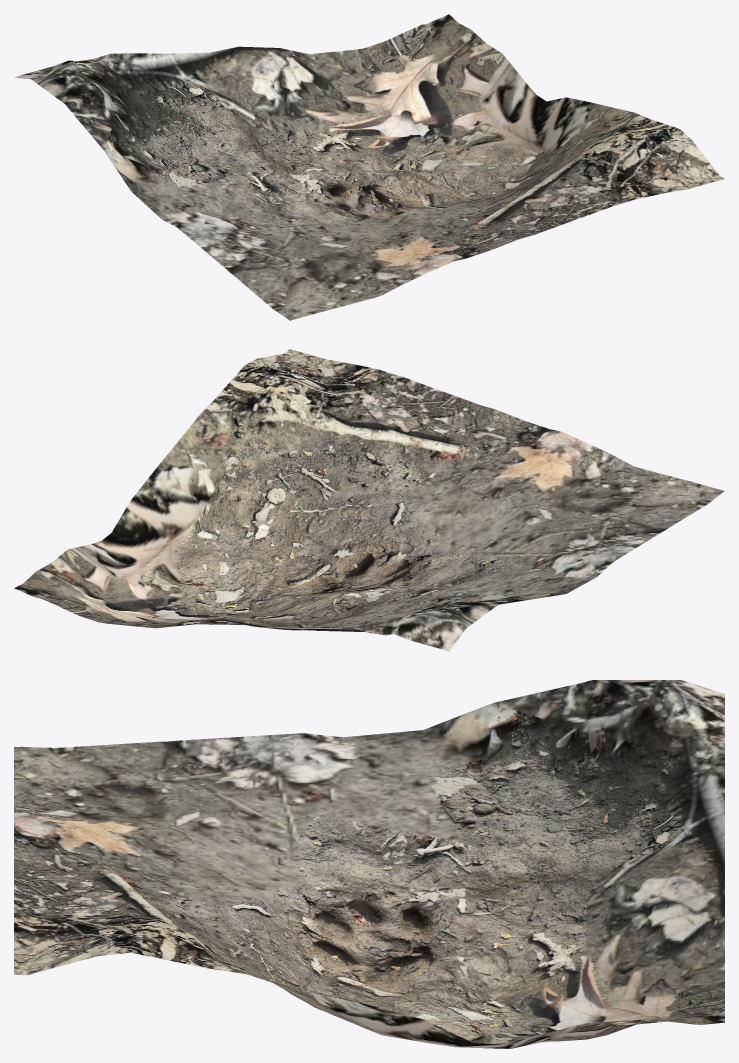
The model's file is print.glb.
The picture shows the model from 3 angles, top to bottom: view 1: azimuth 30°, elevation 25°; view 2: azimuth 150°, elevation 25°; view 3: azimuth 270°, elevation 25°; orthographic projection. The views are drawn at different scales.
Parts seen in each view (by area): view 1: Scene; view 2: Scene; view 3: Scene.
Part boxes in pixels (left/top/right/bottom): Scene: left=15, top=14, right=724, bottom=320; Scene: left=14, top=349, right=724, bottom=651; Scene: left=14, top=680, right=724, bottom=1048.
Size of the model in its own units: 0.3979 by 0.0997 by 0.437.
1 material, 1 textured.
